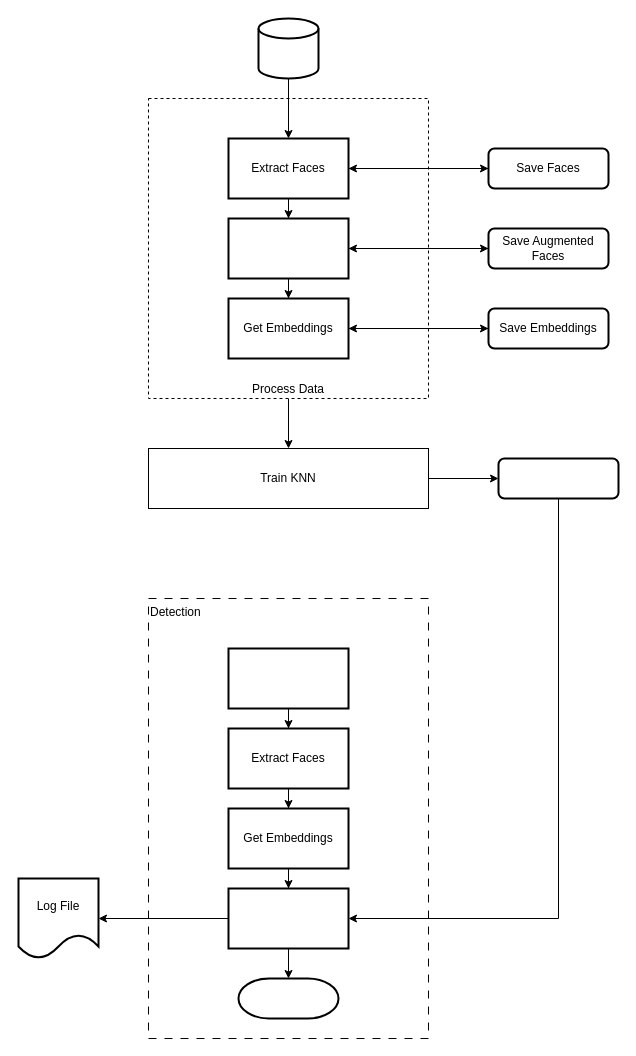
This 636x1056 diagram has some shape labels left out. The shapes that lost their labels are listed below. From the top down, each one's centre as x and y in pixels, then its label:
(x=288, y=48): Dataset
(x=288, y=248): Apply Augmentations
(x=558, y=478): Save Classifier
(x=288, y=678): Capture Video Frame
(x=288, y=918): Get Predictions
(x=288, y=998): Display
